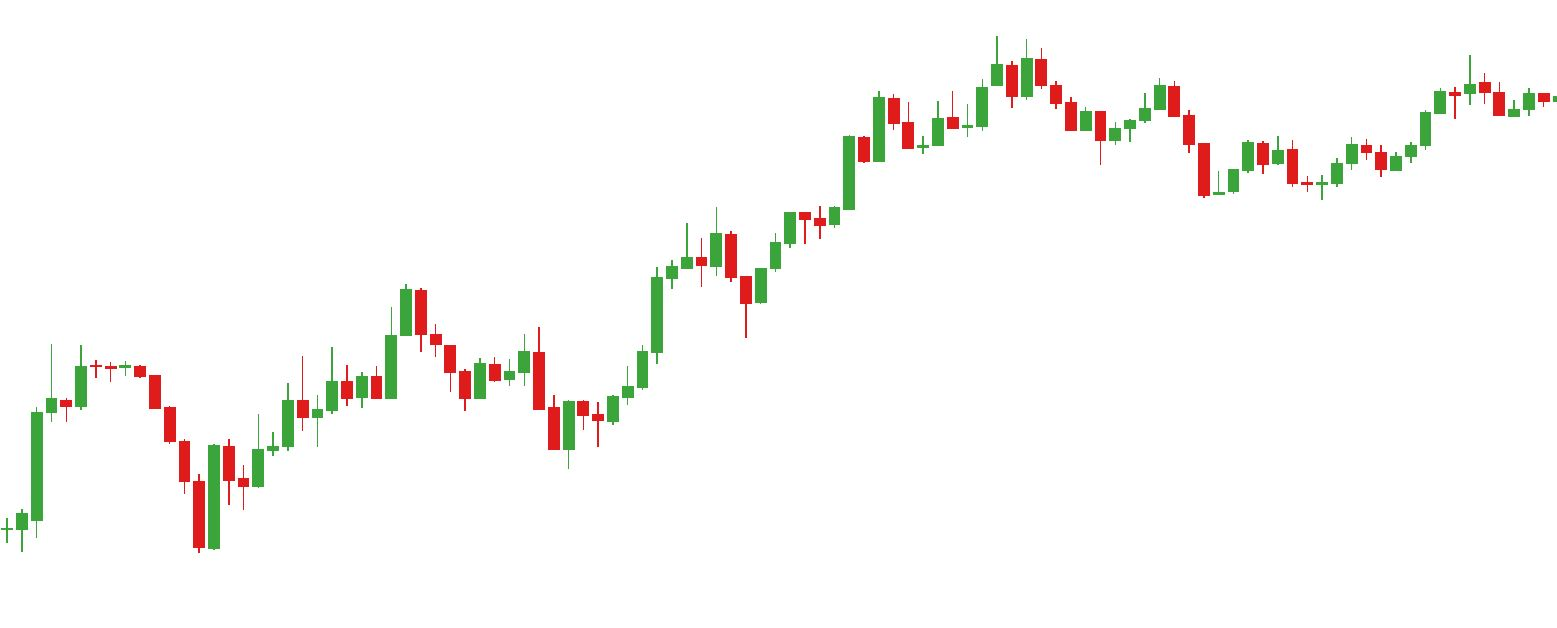buy: (309, 351, 577, 474), (28, 423, 223, 553)
